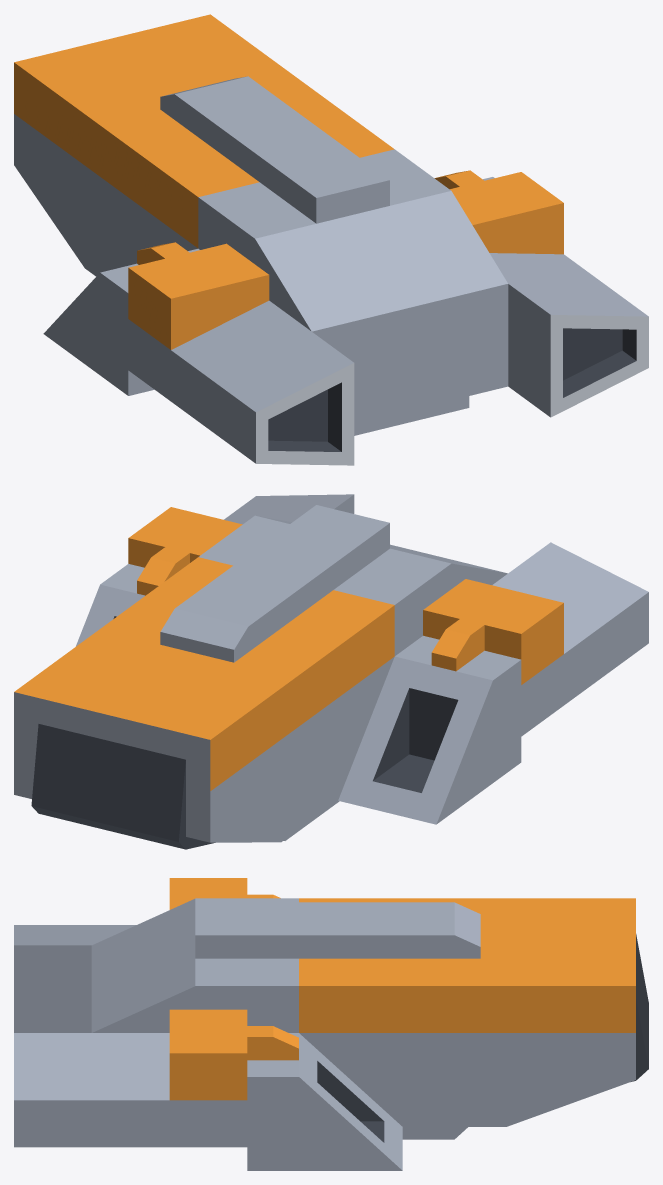
File: k-craft-cargo-a.glb
3 renders of one model, top to bottom at view 1: azimuth 30°, elevation 25°; view 2: azimuth 150°, elevation 25°; view 3: azimuth 270°, elevation 25°, orthographic. The views are drawn at different scales.
Visible parts, largest first — view 1: craft_cargoA; view 2: craft_cargoA; view 3: craft_cargoA.
Part boxes in pixels (x1,y1,x2,y2): craft_cargoA: [14, 14, 648, 465]; craft_cargoA: [14, 494, 648, 849]; craft_cargoA: [14, 878, 648, 1170].
Bounding box in the file's own units: 1.6 × 0.8 × 2.45.
